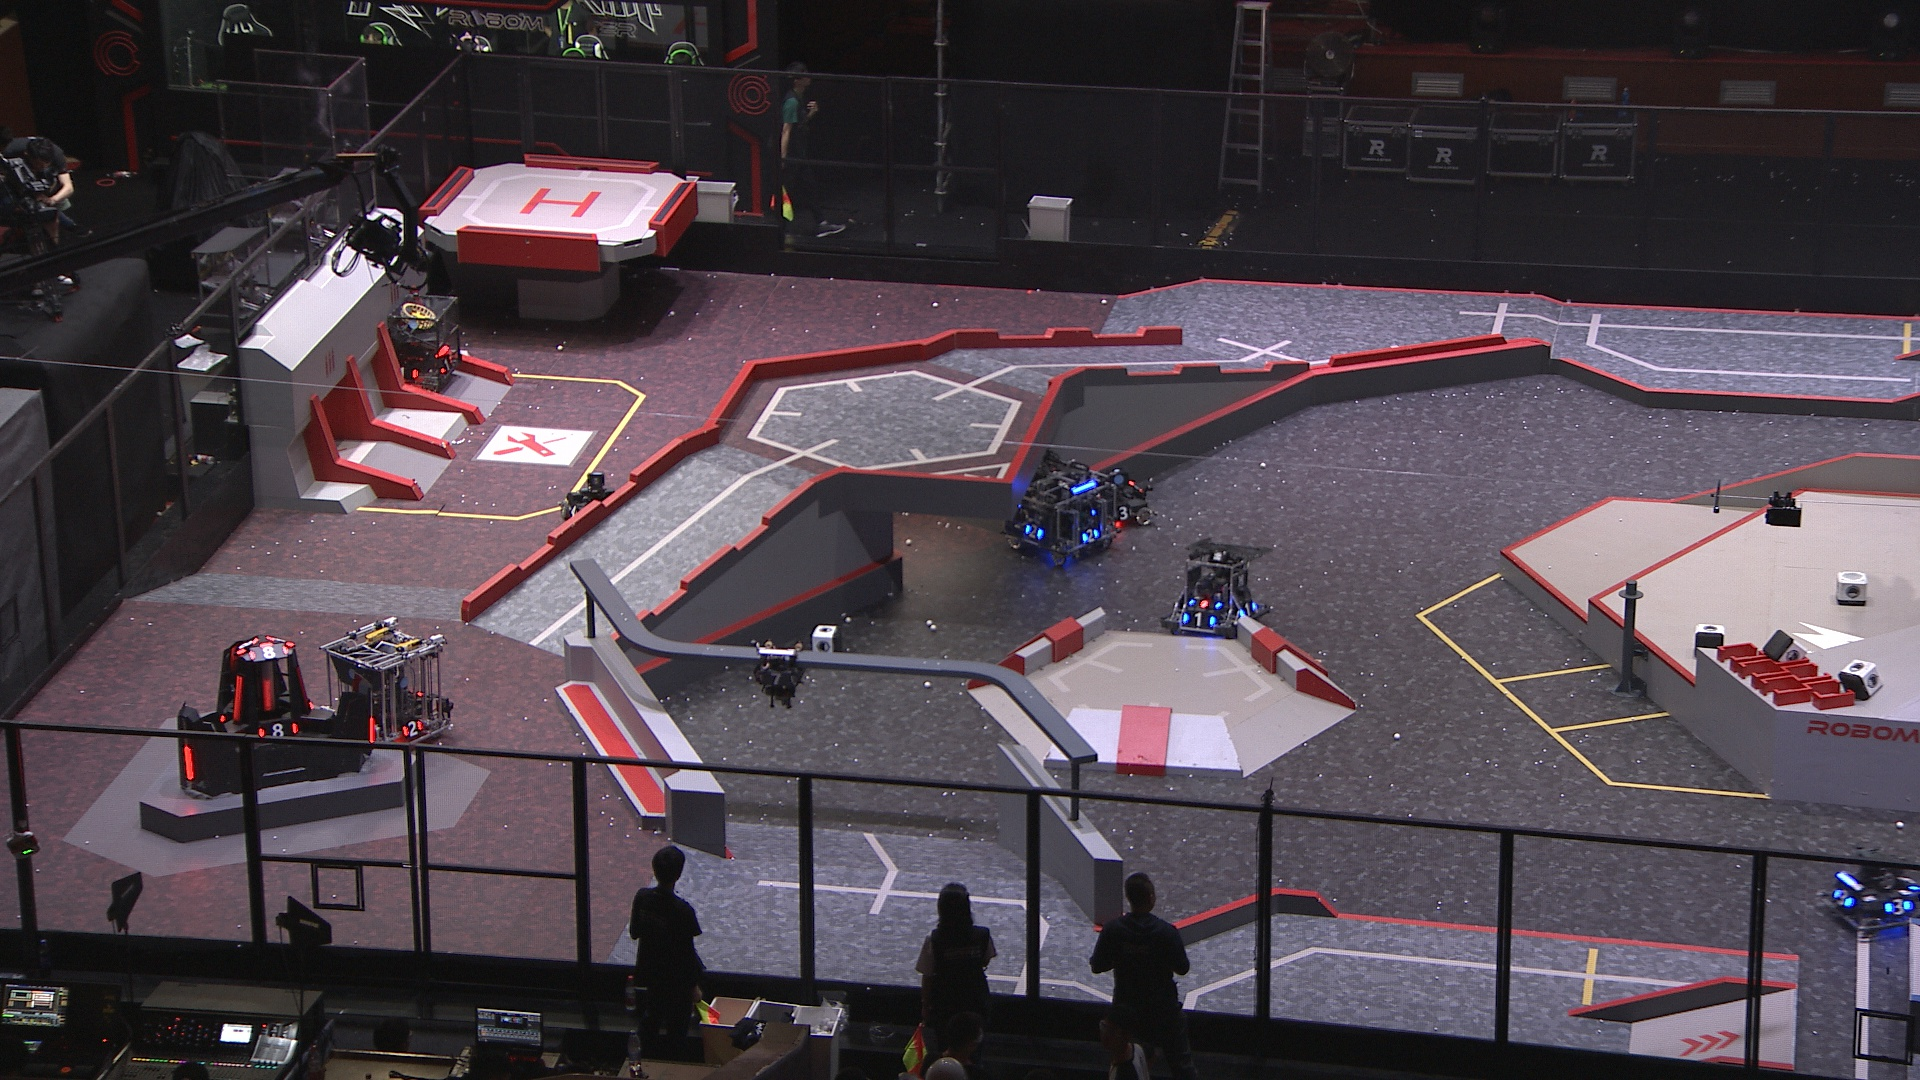armor: (248, 642, 289, 661), (756, 670, 795, 688), (1832, 887, 1855, 913), (258, 723, 295, 738), (182, 745, 196, 783), (1883, 897, 1912, 915), (231, 674, 243, 719), (401, 717, 422, 742), (1179, 612, 1215, 626), (1022, 522, 1046, 543), (1898, 874, 1920, 895), (237, 632, 257, 655), (1236, 600, 1258, 618), (438, 353, 455, 376), (392, 365, 418, 380), (258, 680, 272, 709), (1112, 504, 1133, 520), (367, 713, 377, 744), (1081, 527, 1100, 545)
base: (174, 624, 377, 796)
car: (318, 613, 455, 756), (986, 446, 1117, 564), (1158, 534, 1273, 644), (373, 287, 468, 396), (1812, 847, 1920, 940), (556, 467, 633, 543), (1092, 460, 1158, 538)
watcher: (750, 640, 807, 705)
